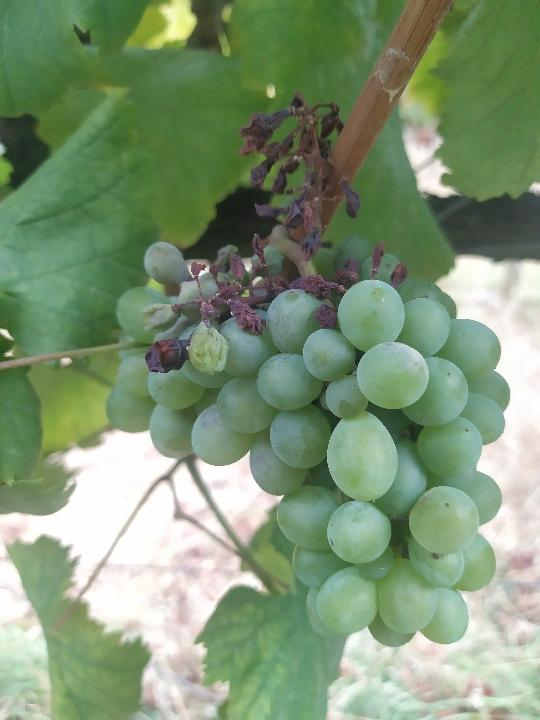grape: (104, 86, 518, 649)
